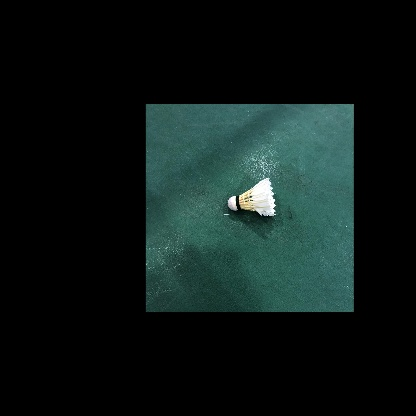ball_single: (228, 178, 276, 216)
